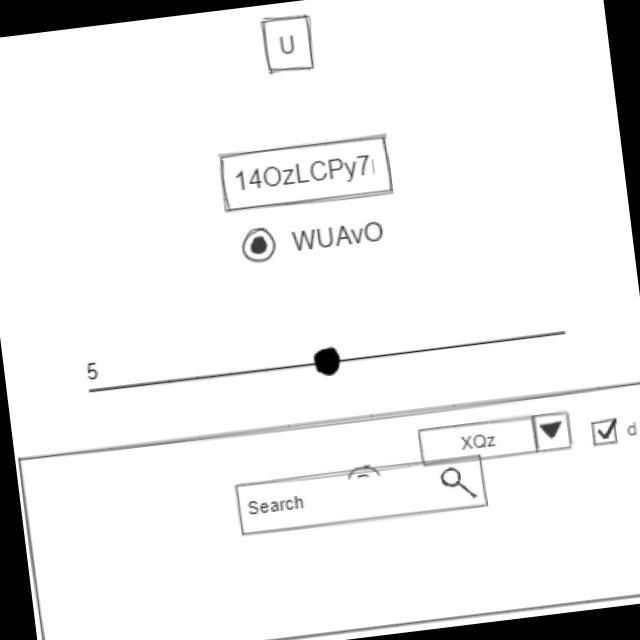button: (214, 128, 400, 217), (256, 9, 320, 78)
checkbox: (586, 412, 640, 447)
container: (14, 374, 640, 640)
radio: (237, 210, 389, 267)
search: (231, 449, 491, 542)
select: (414, 406, 576, 470)
slider: (104, 312, 570, 406)
